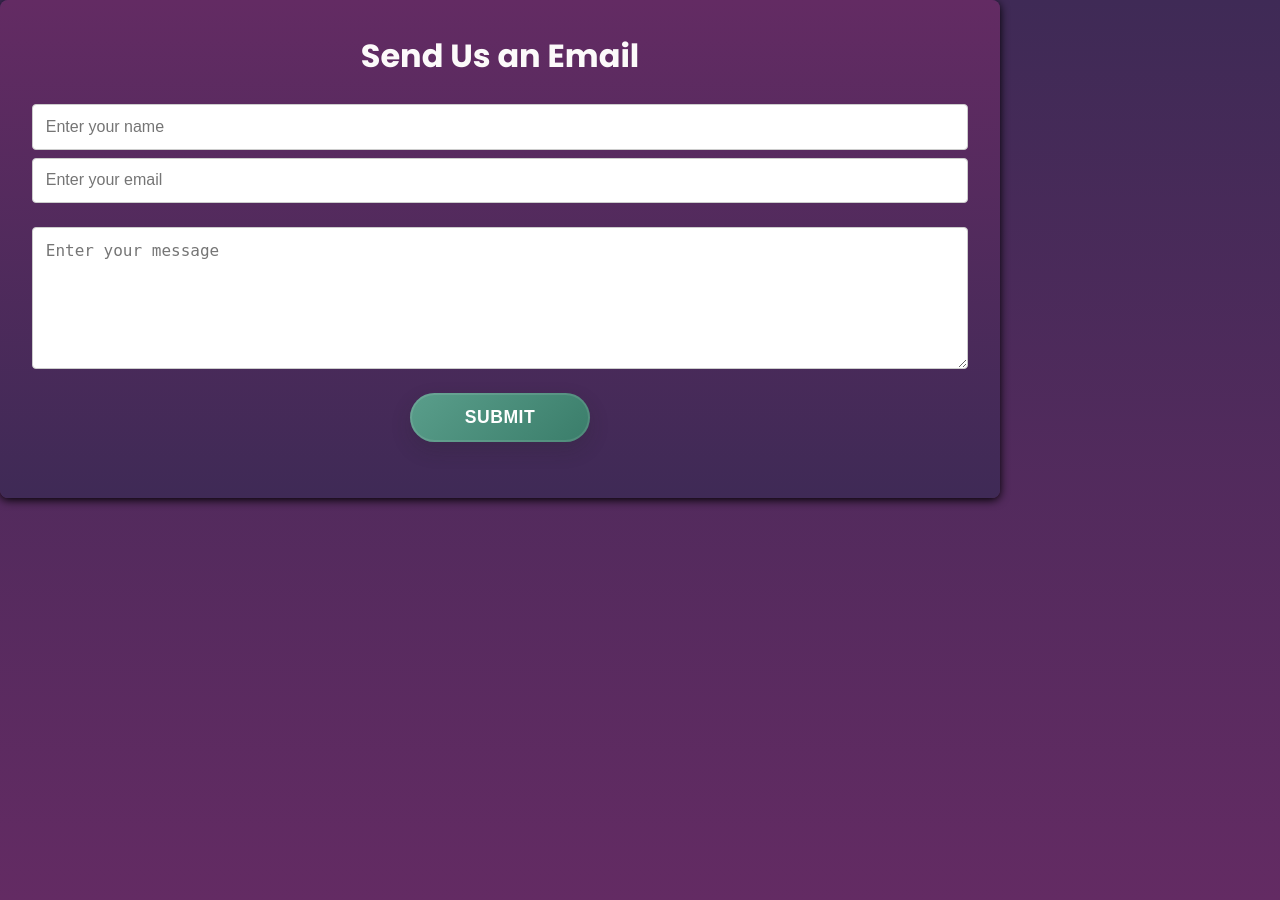
Contact Form › shows error message when the submission fails
Type "John Doe" into the field with placeholder "Enter your name" at [500, 127], box [32,104,968,150]
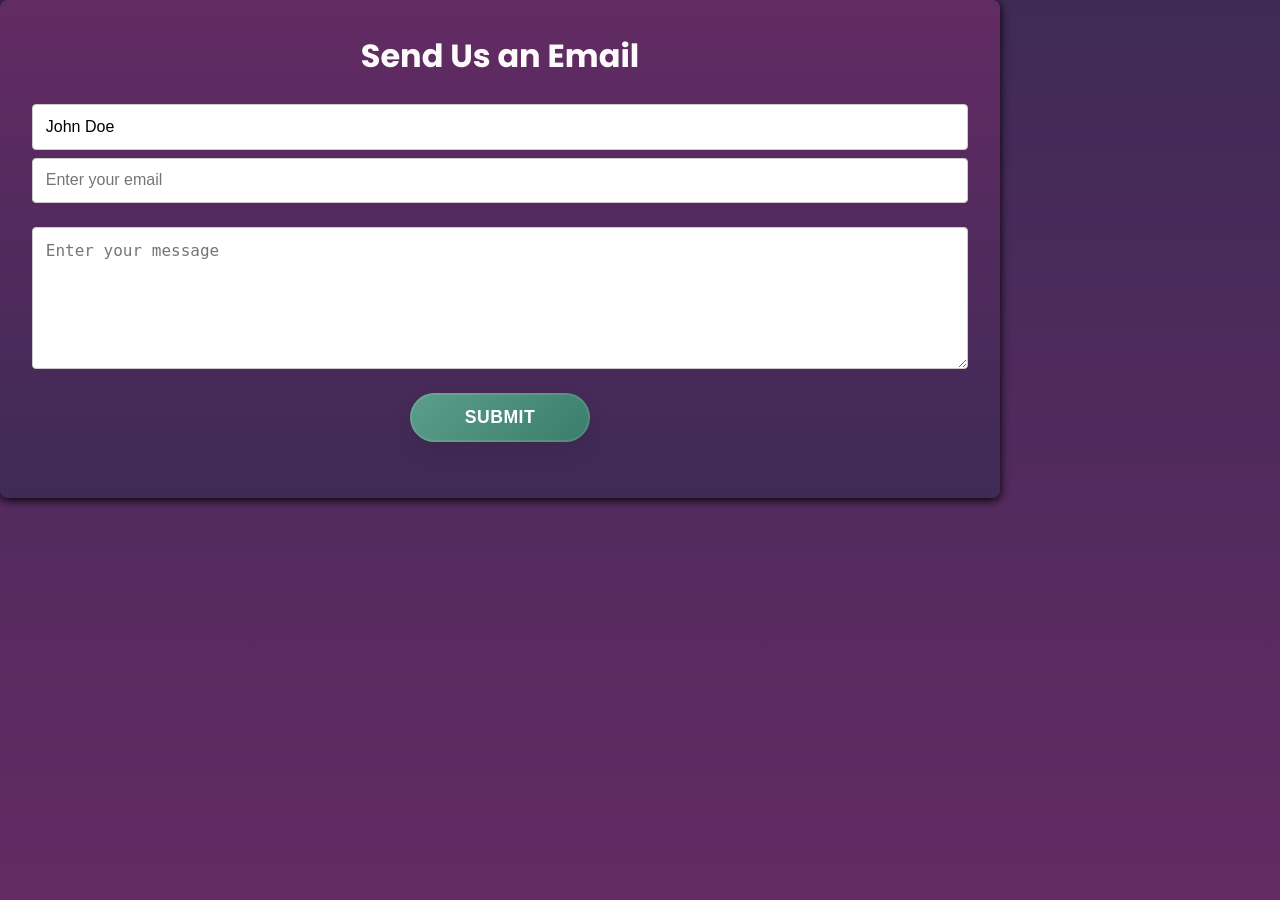
Type "john@example.com" into the field with placeholder "Enter your email" at [500, 180], box [32,158,968,203]
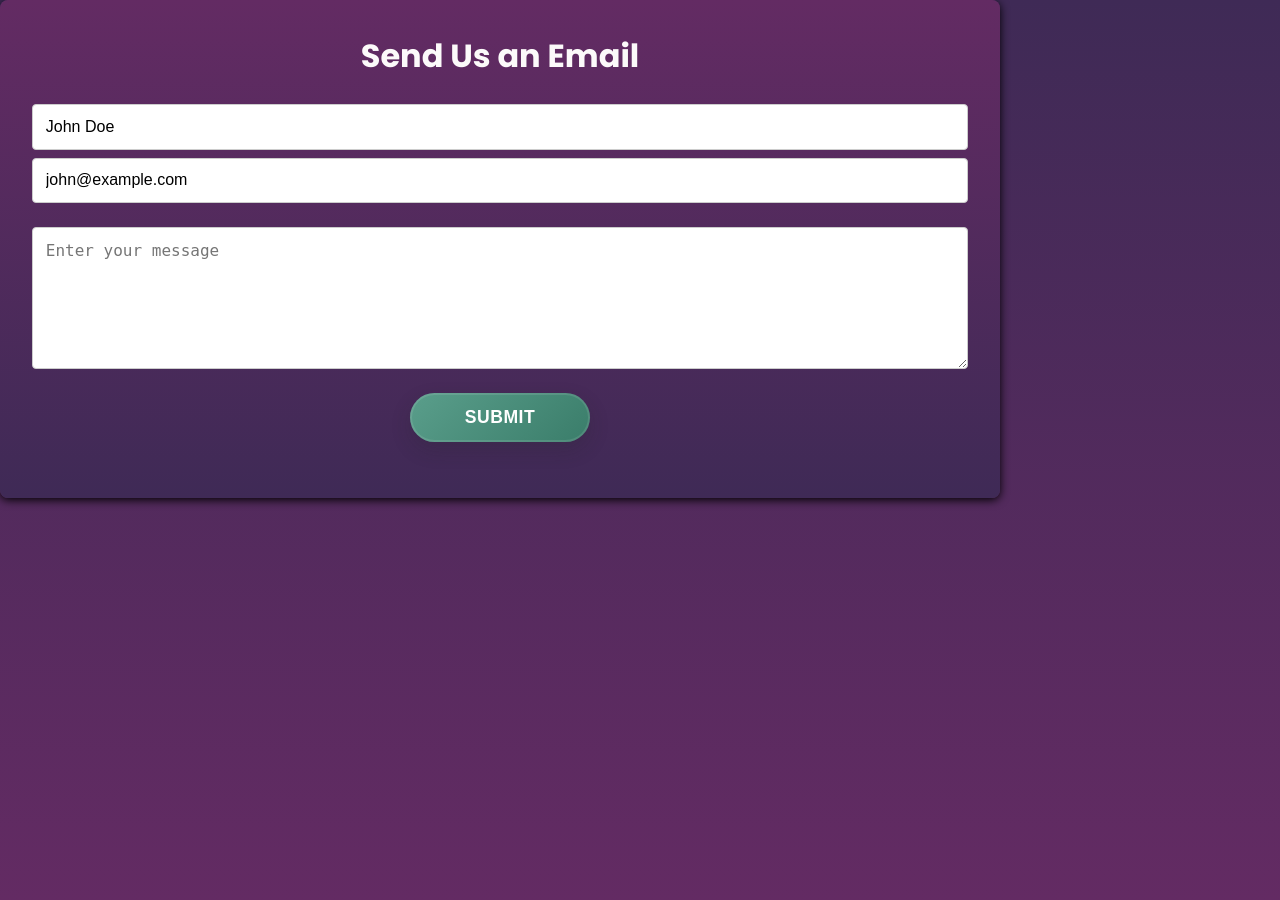
Type "Hello there!" into the text box with placeholder "Enter your message" at [500, 298], box [32,227,968,369]
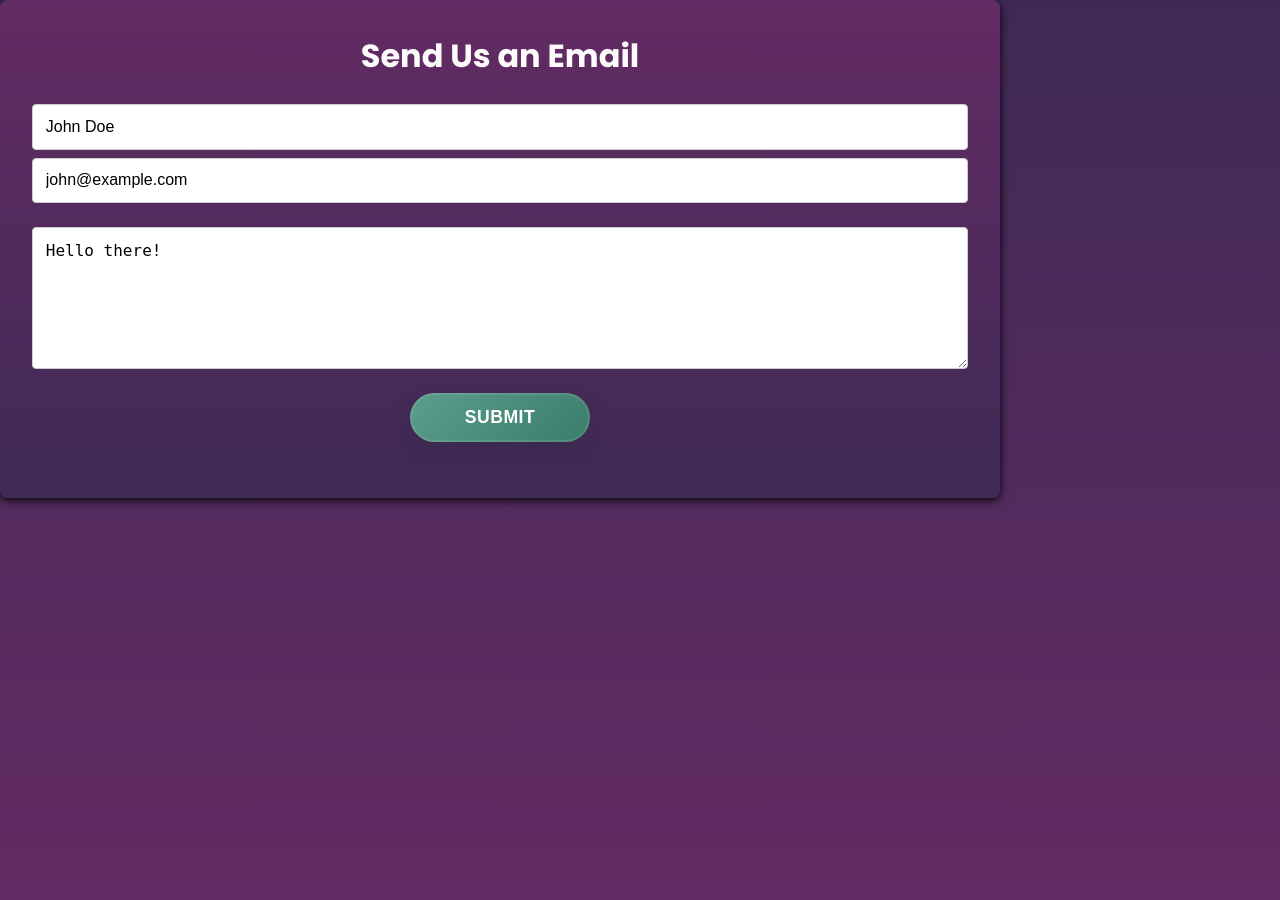
Click the button "Submit" at [500, 417], box [410,393,590,442]
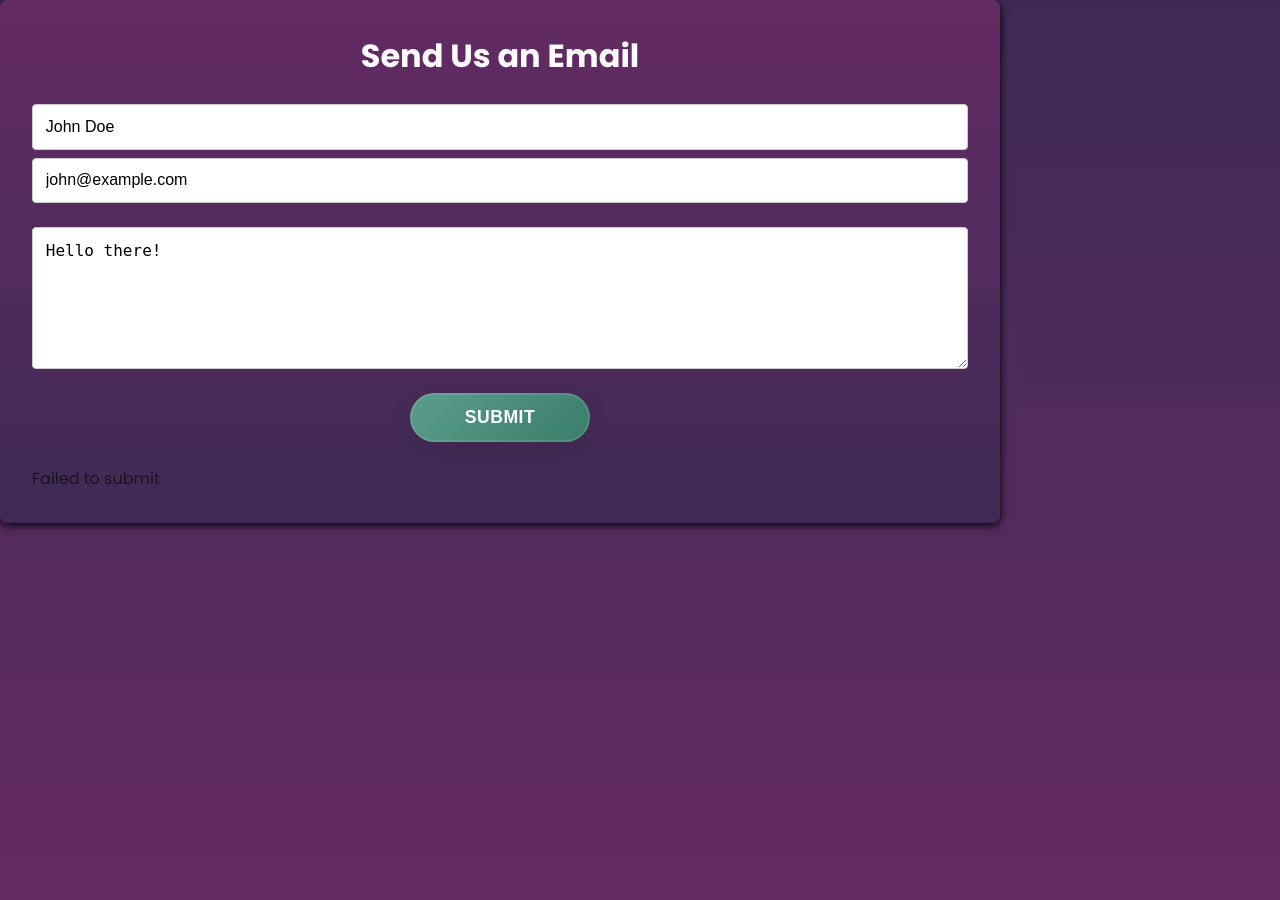
Expected: the text "Failed to submit" is shown, [32,467,160,490]
